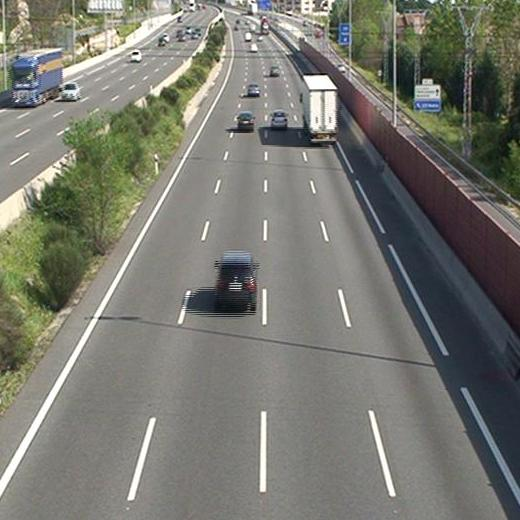car: (216, 251, 257, 308), (271, 109, 287, 129), (237, 111, 253, 129), (247, 82, 261, 95), (268, 65, 279, 76)
truck: (300, 75, 337, 142)
